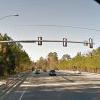Traffic light: (33, 30, 97, 55)
